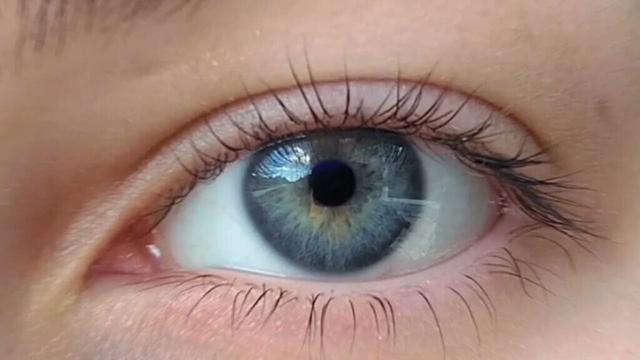eye: (246, 120, 427, 274)
